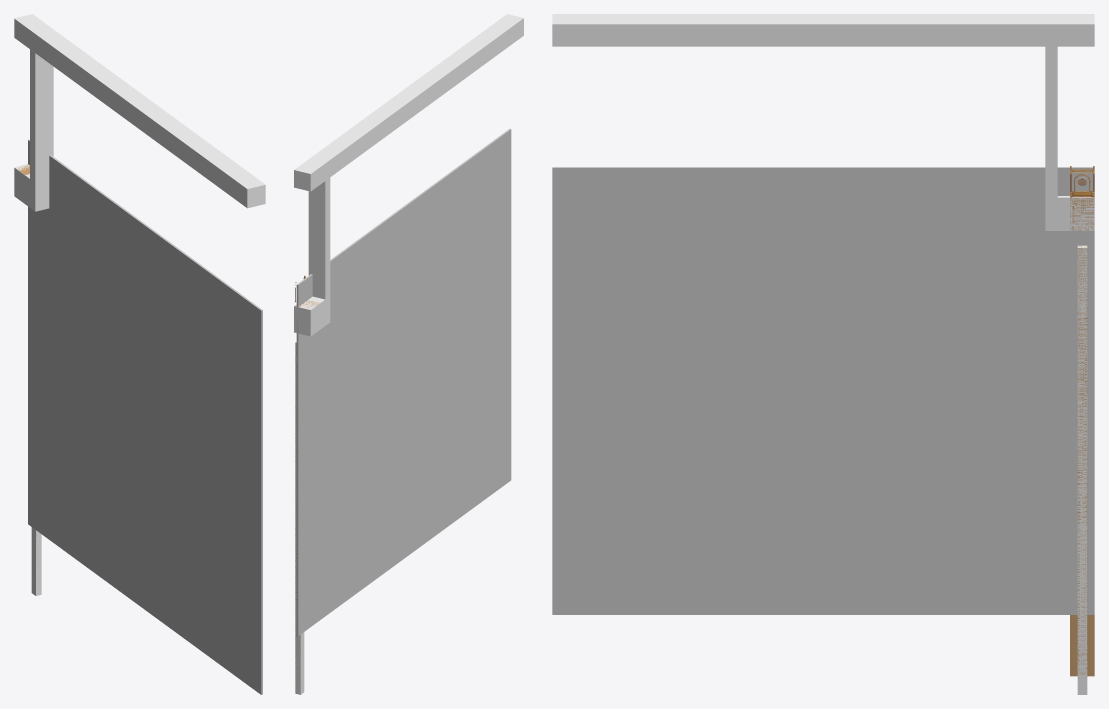
File: sand_stone_south_east_corner.gltf
3 views of the same model, side by side, from view 1: azimuth 30°, elevation 25°; view 2: azimuth 150°, elevation 25°; view 3: azimuth 270°, elevation 25° (orthographic). The views are drawn at different scales.
Visible parts, largest first — view 1: MeshInstance3D, MeshInstance3D22, MeshInstance3D2, SandStoneOuterWall, MeshInstance3D3, MeshInstance3D23; view 2: MeshInstance3D, MeshInstance3D22, MeshInstance3D2, MeshInstance3D3, Wall, MeshInstance3D23; view 3: MeshInstance3D, MeshInstance3D22, MeshInstance3D3, MeshInstance3D2, SupportPillar, MassiveWall, SandStoneOuterWall, Wall, MeshInstance3D23.
Boxes of the visible parts, x1,y1,x2,y2 form: MeshInstance3D: [28, 139, 262, 694]; MeshInstance3D22: [24, 22, 265, 208]; MeshInstance3D2: [30, 40, 53, 196]; SandStoneOuterWall: [24, 174, 49, 211]; MeshInstance3D3: [31, 527, 41, 595]; MeshInstance3D23: [14, 14, 42, 44]; MeshInstance3D: [296, 128, 511, 636]; MeshInstance3D22: [304, 14, 523, 183]; MeshInstance3D2: [308, 169, 330, 311]; MeshInstance3D3: [295, 341, 304, 694]; Wall: [294, 300, 320, 336]; MeshInstance3D23: [294, 163, 320, 191]; MeshInstance3D: [552, 167, 1094, 614]; MeshInstance3D22: [552, 14, 1069, 46]; MeshInstance3D3: [1077, 245, 1087, 694]; MeshInstance3D2: [1045, 35, 1057, 213]; SupportPillar: [1077, 246, 1087, 677]; MassiveWall: [1070, 615, 1094, 676]; SandStoneOuterWall: [1045, 196, 1069, 230]; Wall: [1070, 197, 1094, 230]; MeshInstance3D23: [1070, 14, 1094, 46].
Size of the model in its own units: 1.1 by 29.96 by 22.
Materials: 11 (2 with a texture image).
